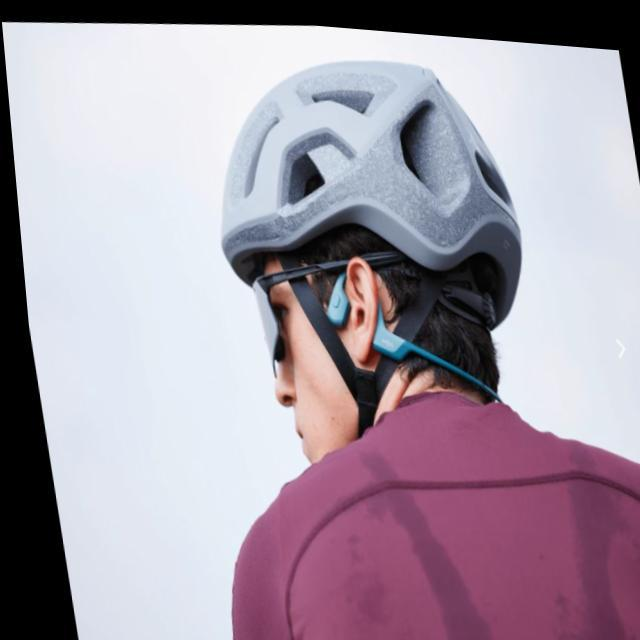Helmet: (215, 39, 552, 477)
